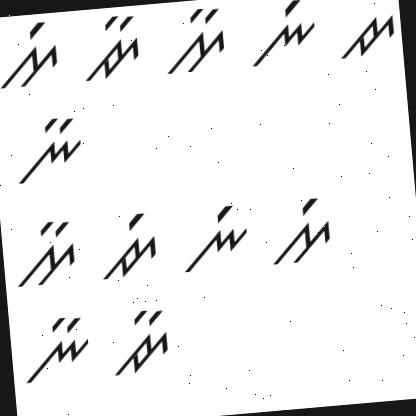ja: (330, 4, 399, 71)
jan: (100, 301, 178, 380), (74, 13, 145, 85)
jang: (94, 208, 164, 282)
nyan: (16, 310, 95, 396), (6, 112, 88, 190)
nyang: (174, 194, 252, 276), (268, 189, 339, 271), (244, 0, 324, 71)
san: (6, 210, 88, 294), (163, 7, 229, 80)
sang: (0, 19, 62, 94)
